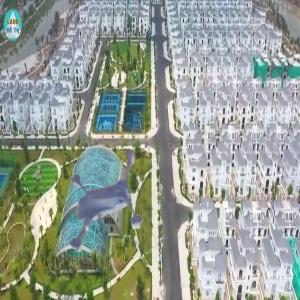drone: (39, 156, 166, 283)
